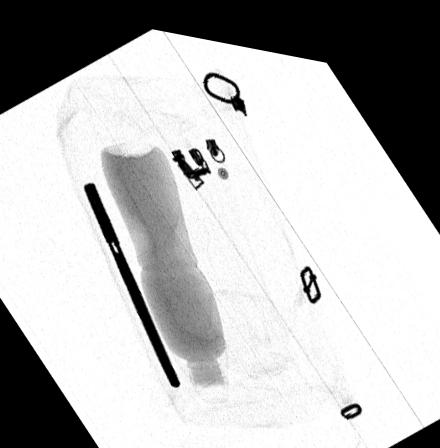Pliers: (83, 179, 180, 382)
